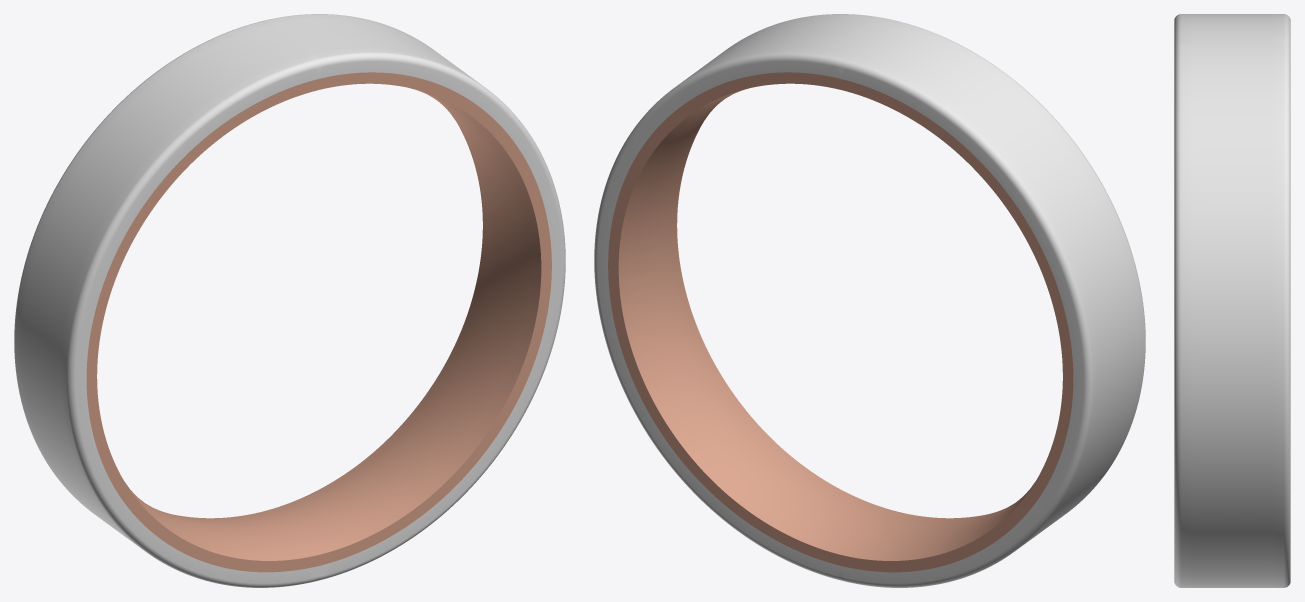
File: jamesCabral_webgi.glb
3 views of the same model, side by side, from view 1: azimuth 30°, elevation 25°; view 2: azimuth 150°, elevation 25°; view 3: azimuth 270°, elevation 25° (orthographic).
Visible parts, largest first — view 1: james_PT_for_3d_model, james_ROSE_GOLD_for_3d_model; view 2: james_PT_for_3d_model, james_ROSE_GOLD_for_3d_model; view 3: james_PT_for_3d_model.
Boxes of the visible parts, x1,y1,x2,y2 form: james_PT_for_3d_model: [14, 14, 565, 587]; james_ROSE_GOLD_for_3d_model: [86, 72, 551, 572]; james_PT_for_3d_model: [594, 14, 1145, 587]; james_ROSE_GOLD_for_3d_model: [608, 72, 1073, 572]; james_PT_for_3d_model: [1174, 14, 1290, 587].
Size of the model in its own units: 2.8 by 2.8 by 0.5689.
